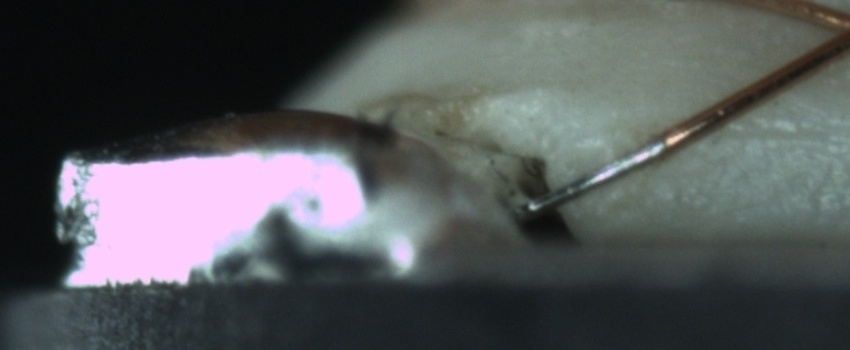CL: (805, 1, 850, 63)
DL: (705, 100, 849, 164)
TS: (526, 136, 672, 210)
